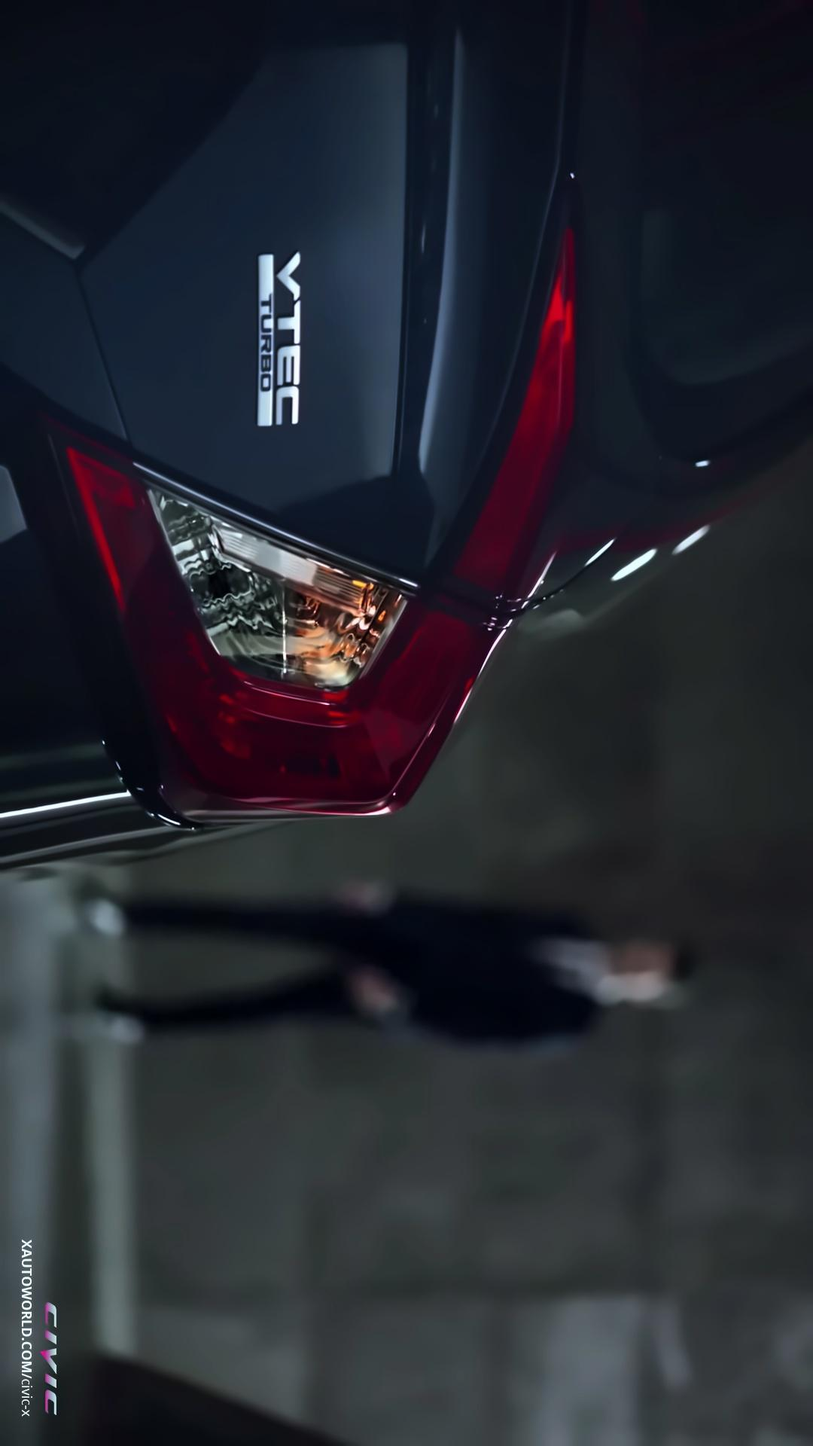Car boot: (0, 0, 654, 597)
Rear bumper: (0, 374, 263, 881)
Rear light - -R-: (54, 229, 585, 829)
